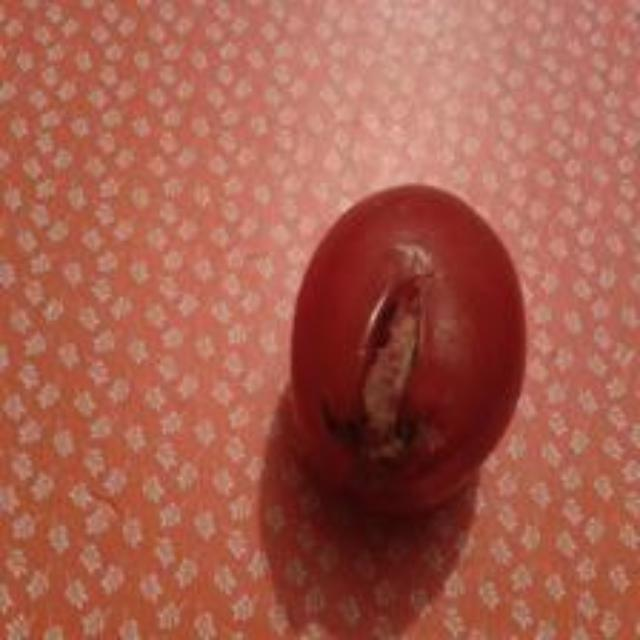defect: (287, 178, 534, 521)
